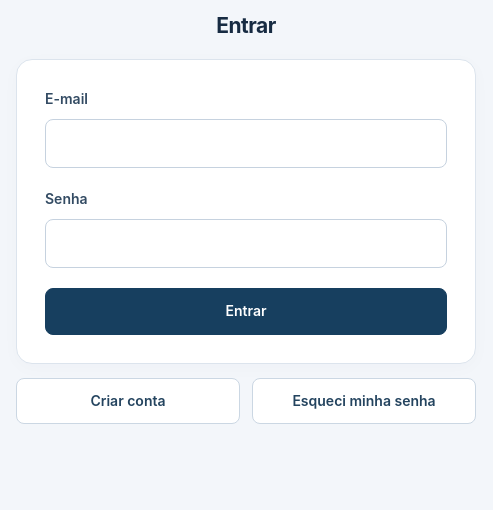
Test: acesso real via cliente de Auth › solicita confirmação por e-mail no cadastro e limpa a senha
Click the button "Criar conta".
click(128, 401)  # box [16,378,240,424]
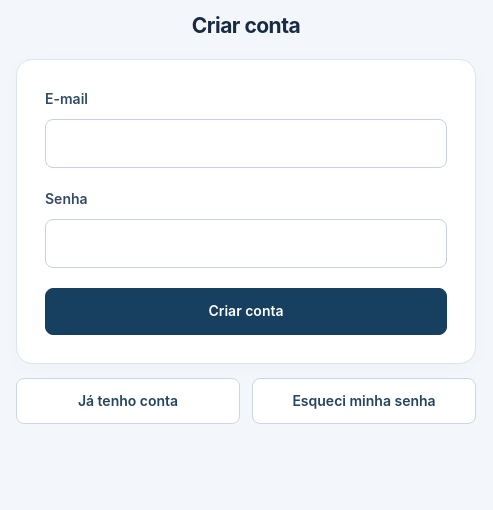
Type "ana@example.test" into the field labelled "E-mail".
click(246, 143); type("ana@example.test")  # box [45,119,447,168]
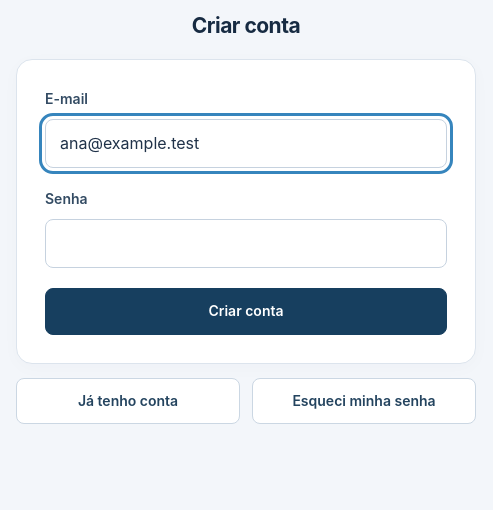
Type "password123" into the password field labelled "Senha".
click(246, 243); type("password123")  # box [45,219,447,268]
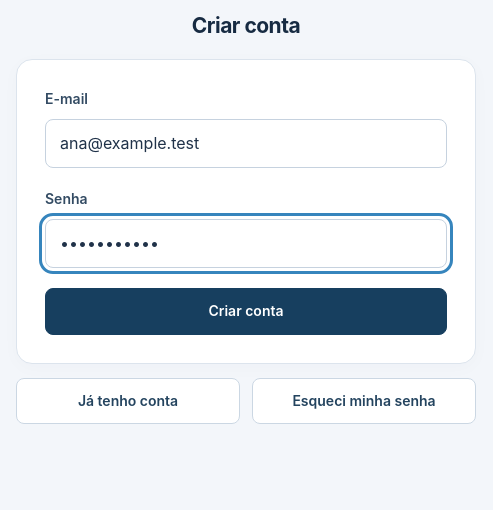
Click the button "Criar conta".
click(246, 311)  # box [45,288,447,335]
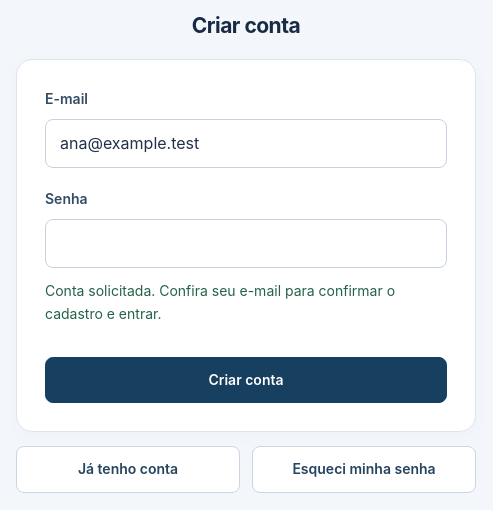
Check: the message shows "Confira seu e-mail", box [45,282,395,322]
Check: the password field labelled "Senha" is empty, box [45,219,447,268]
